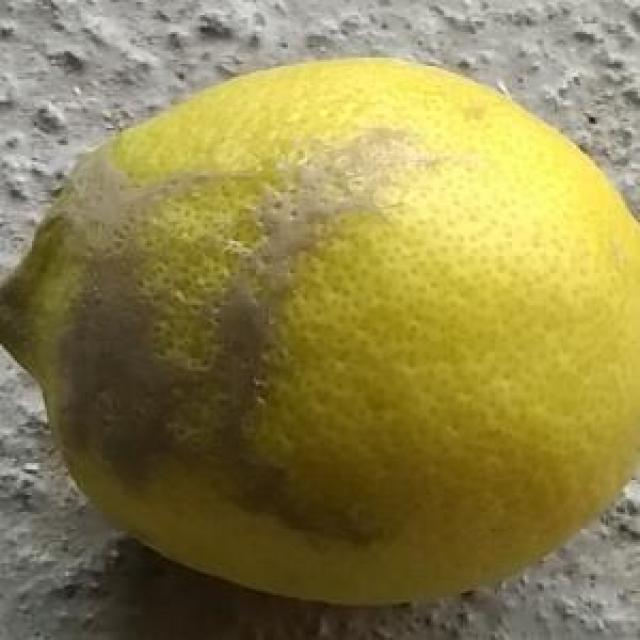lemon: (0, 52, 640, 604)
